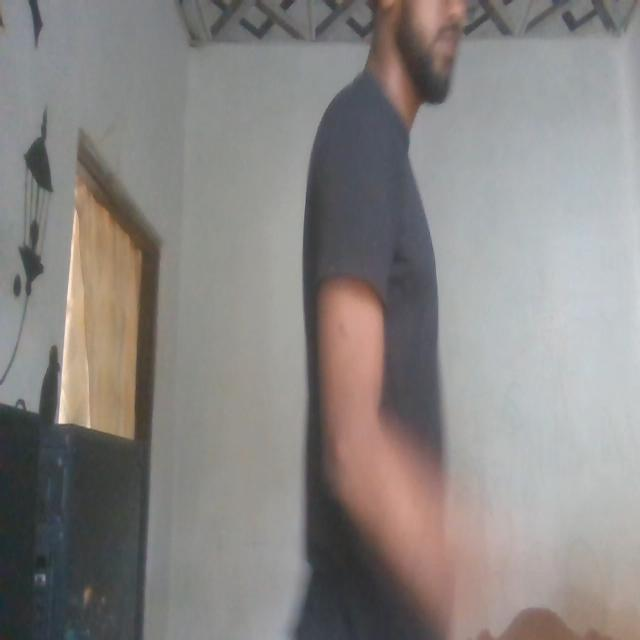Person: (310, 0, 500, 640)
